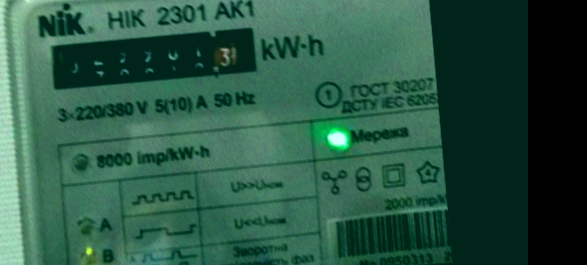0: (163, 36, 179, 62), (63, 51, 81, 74)
1: (188, 35, 203, 59)
2: (88, 46, 105, 67)
3: (216, 43, 231, 66)
9: (138, 40, 154, 63), (113, 42, 127, 65)
screen: (35, 15, 267, 99)
